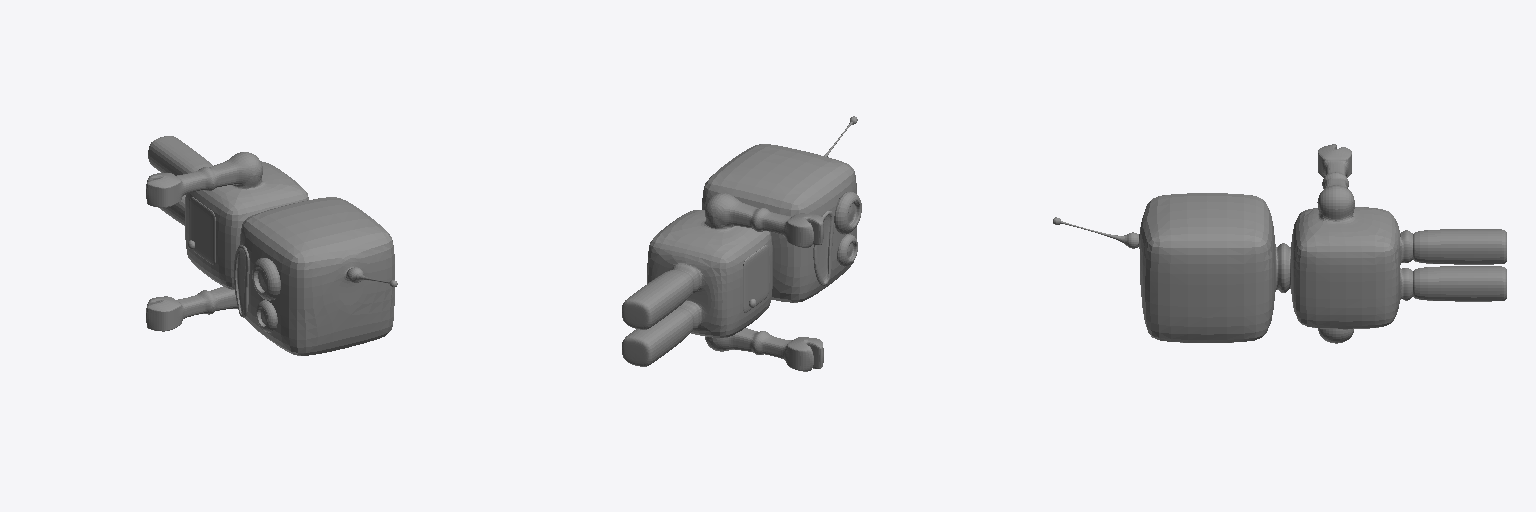
File: soko_fromMax.obj
The picture shows the model from 3 angles: view 1: azimuth 30°, elevation 25°; view 2: azimuth 150°, elevation 25°; view 3: azimuth 270°, elevation 25°; orthographic projection.
Parts seen in each view (by area): view 1: Box003; view 2: Box003; view 3: Box003.
Part boxes in pixels (x1,y1,x2,y2): Box003: (146,136,397,355); Box003: (622,116,861,371); Box003: (1053,144,1506,343).
Size of the model in its own units: 0.7326 by 0.66 by 1.76.